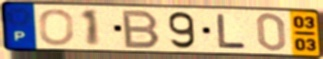0: (254, 12, 288, 53)
1: (79, 8, 101, 48)
9: (167, 11, 197, 50)
B: (122, 9, 163, 50)
L: (215, 13, 249, 50)
O: (38, 8, 76, 47)
